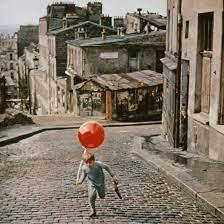red: (78, 119, 107, 150)
